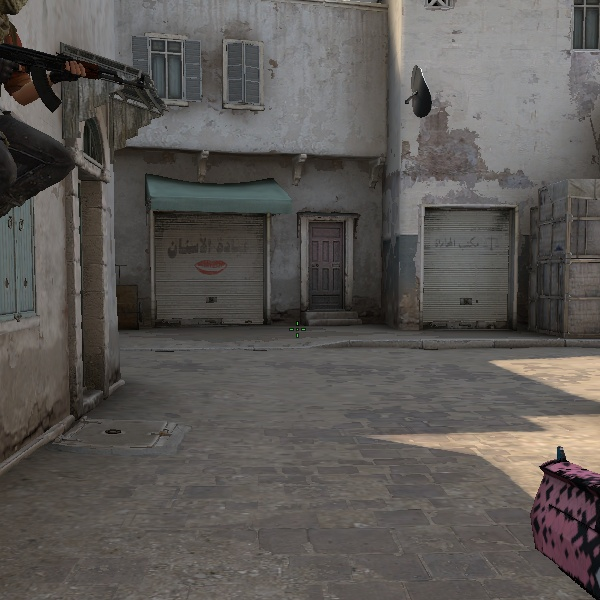t_body: (3, 1, 69, 221)
t_head: (1, 1, 25, 17)
